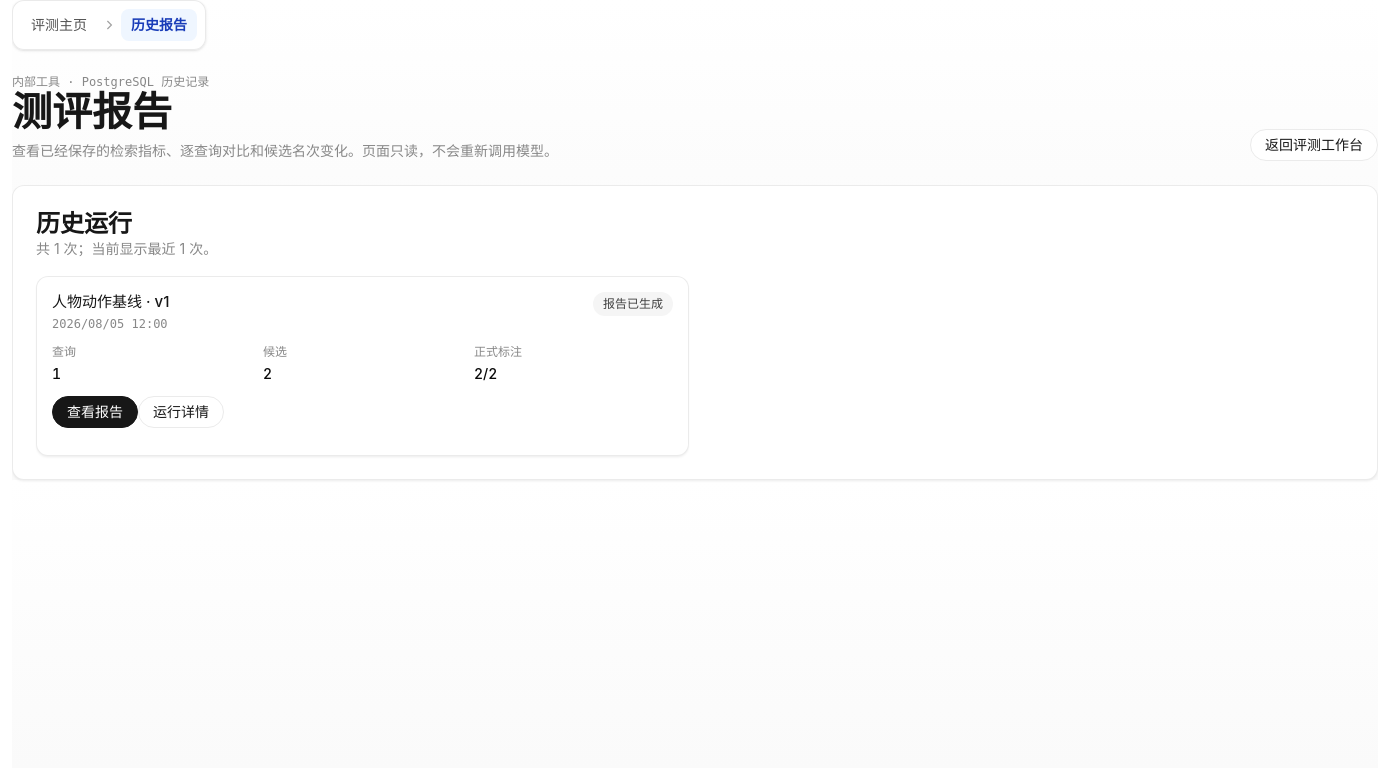
Test: evaluation reports workspace › shows a saved report and candidate rank changes without inventing shadow rerank results
Expected: the navigation bar named "面包屑" shows "评测主页", [21, 9, 97, 41]
Expected: the navigation bar named "面包屑" shows "历史报告", [131, 16, 187, 33]
Click the button "查看报告" at [95, 412], box [52, 396, 138, 428]
(page scrolled)
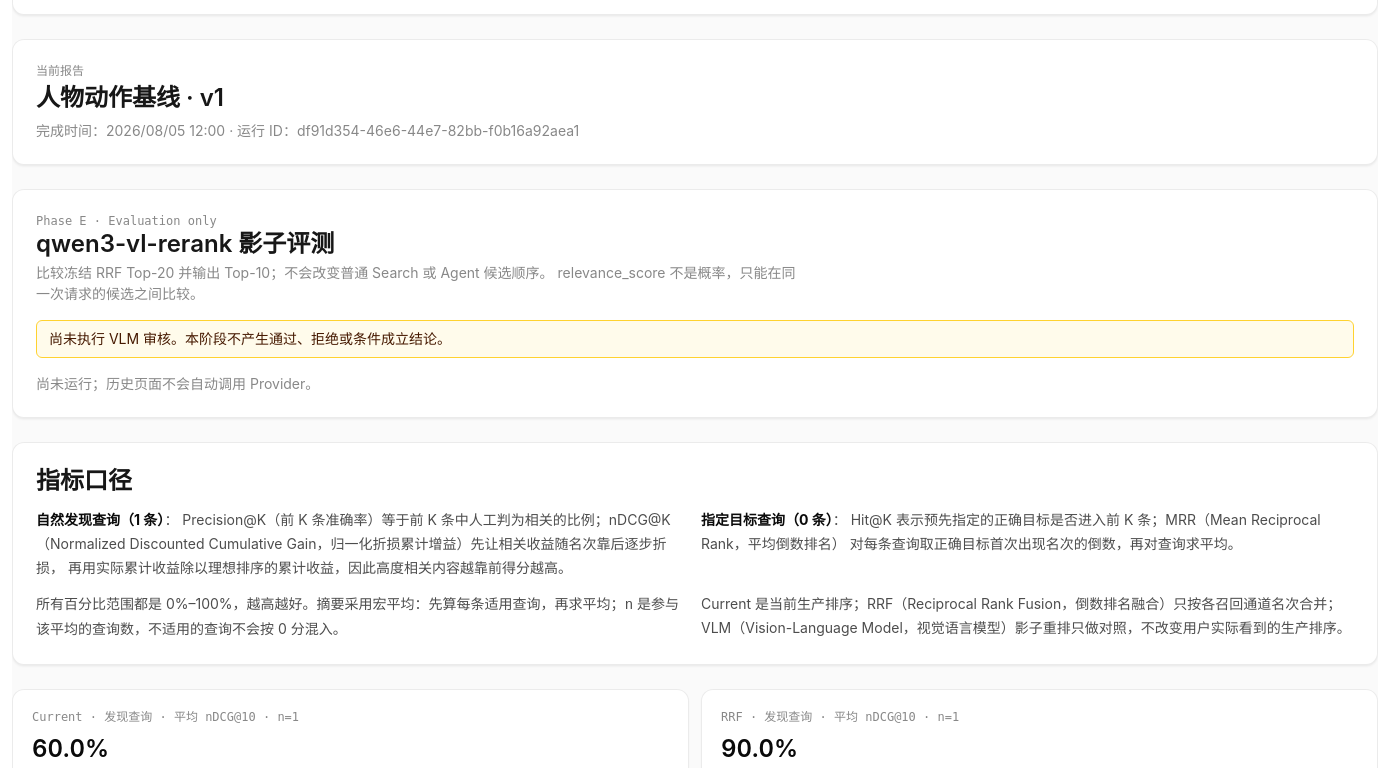
Now the text "尚未运行；历史页面不会自动调用 Provider。" is shown, box [36, 375, 319, 392]
